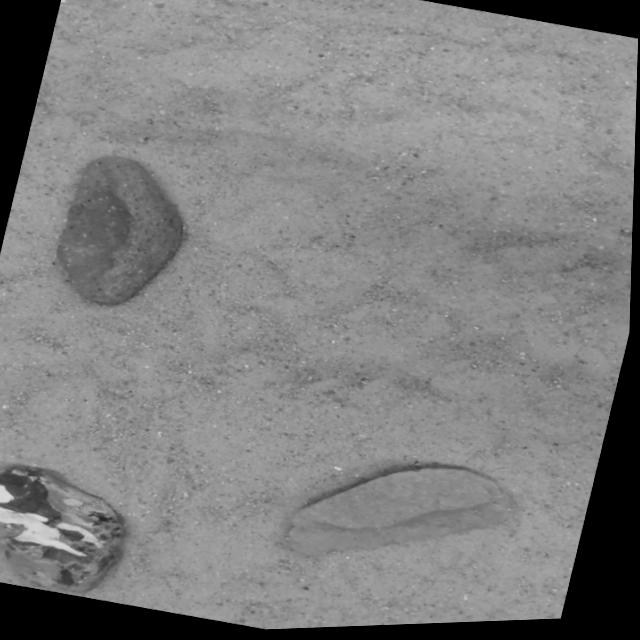rock: (292, 470, 511, 558), (58, 156, 183, 303), (0, 468, 125, 591)
